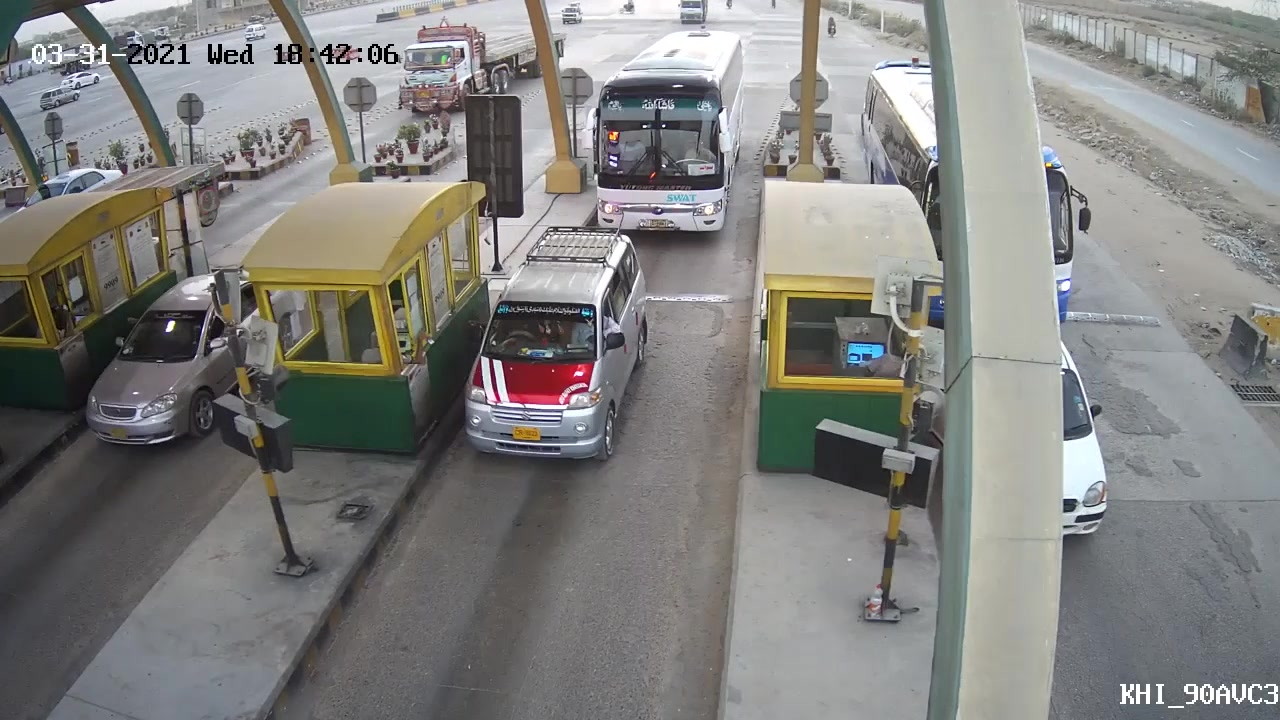F1: (464, 222, 644, 464)
F4: (588, 20, 745, 236)
